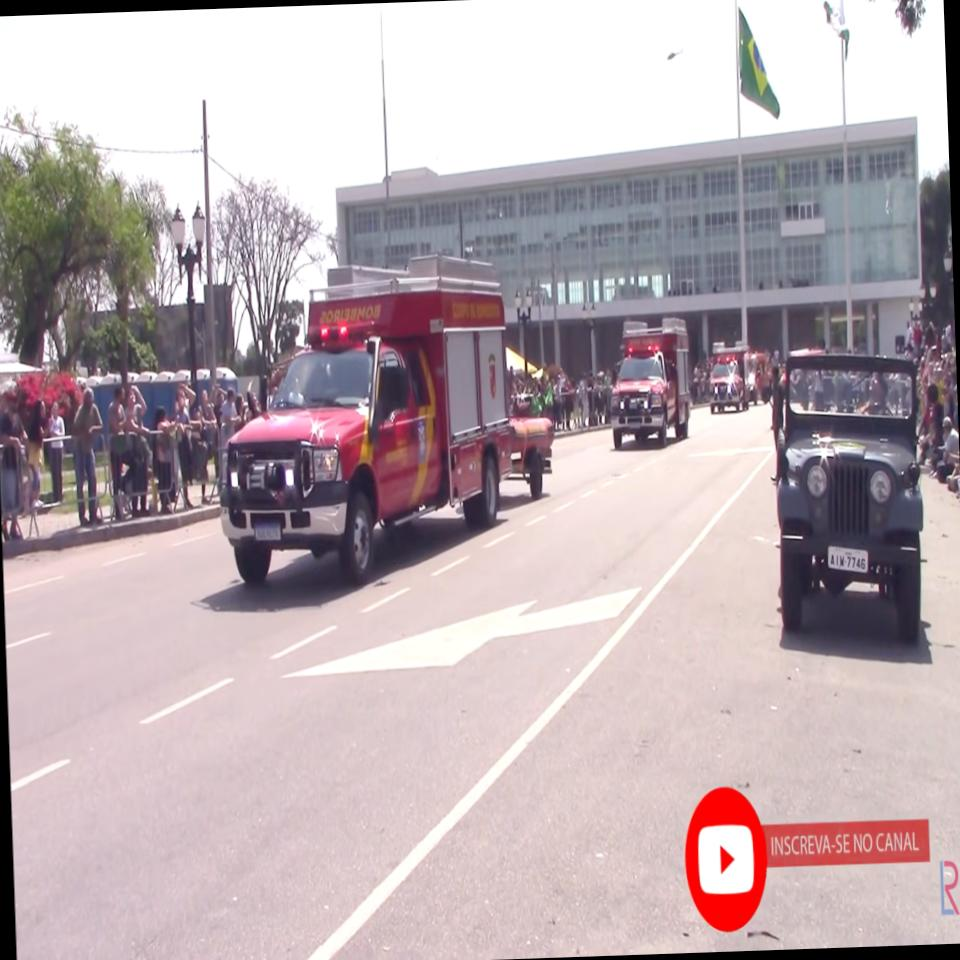viatura: (211, 251, 515, 586), (606, 317, 692, 450), (708, 341, 751, 412)
